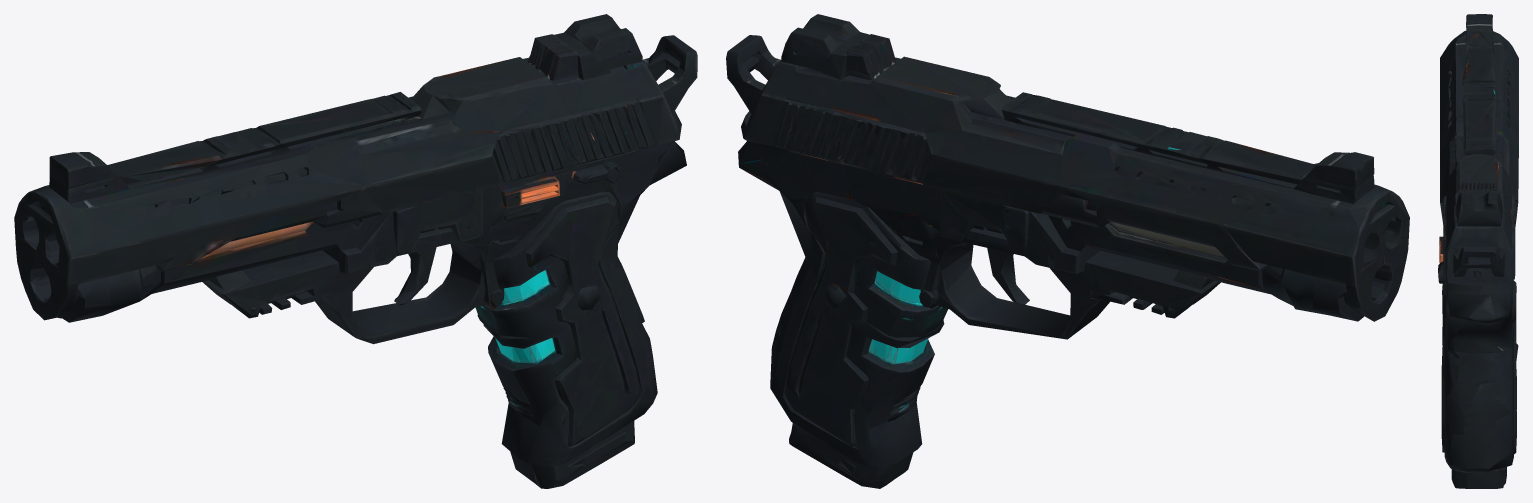
The model's file is mx_w_pistol.glb.
3 views of the same model, side by side, from view 1: azimuth 30°, elevation 25°; view 2: azimuth 150°, elevation 25°; view 3: azimuth 270°, elevation 25° (orthographic). The views are drawn at different scales.
Bounding box in the file's own units: 1.9 × 1.23 × 0.2954.
Materials: 1 (1 with a texture image).
